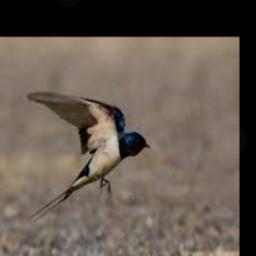Swallow: (27, 90, 150, 221)
